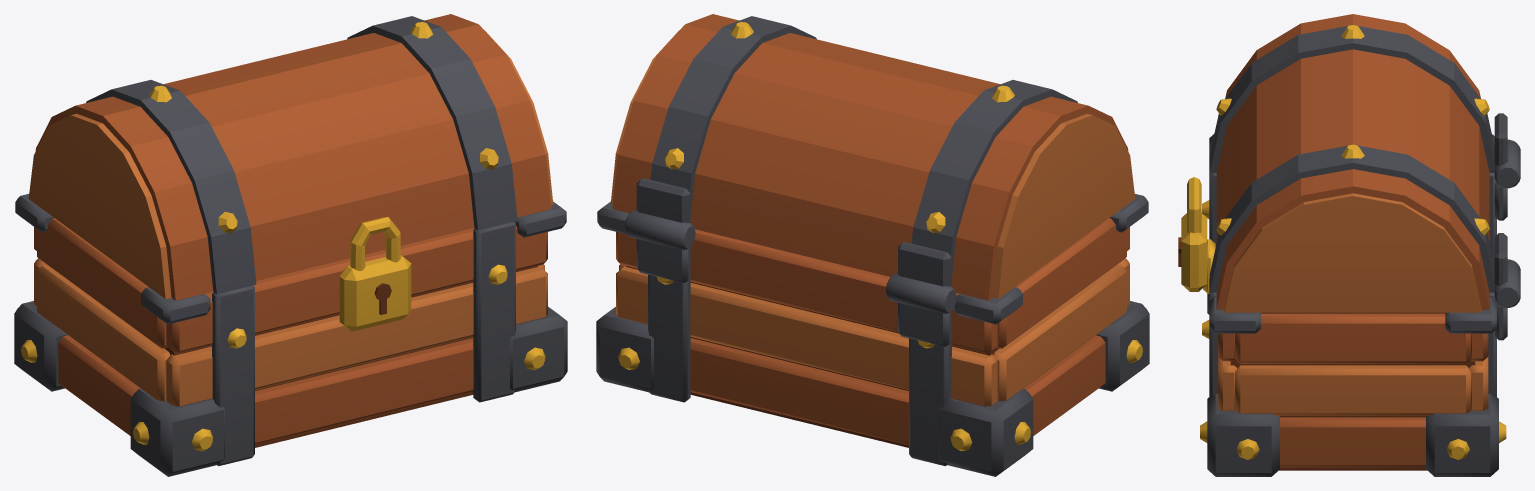
Rendered from chest.glb.
The picture shows the model from 3 angles, left to right: view 1: azimuth 30°, elevation 25°; view 2: azimuth 150°, elevation 25°; view 3: azimuth 270°, elevation 25°; orthographic projection. The views are drawn at different scales.
Visible parts, largest first — view 1: chest_lid, chest_base; view 2: chest_lid, chest_base; view 3: chest_lid, chest_base.
Boxes of the visible parts, bbox=[...] form: chest_lid: bbox=[28, 14, 553, 331]; chest_base: bbox=[14, 194, 567, 476]; chest_lid: bbox=[610, 14, 1135, 300]; chest_base: bbox=[596, 194, 1149, 476]; chest_lid: bbox=[1178, 14, 1507, 312]; chest_base: bbox=[1200, 134, 1520, 476].
Size of the model in its own units: 1.06 by 0.771 by 0.7971.
